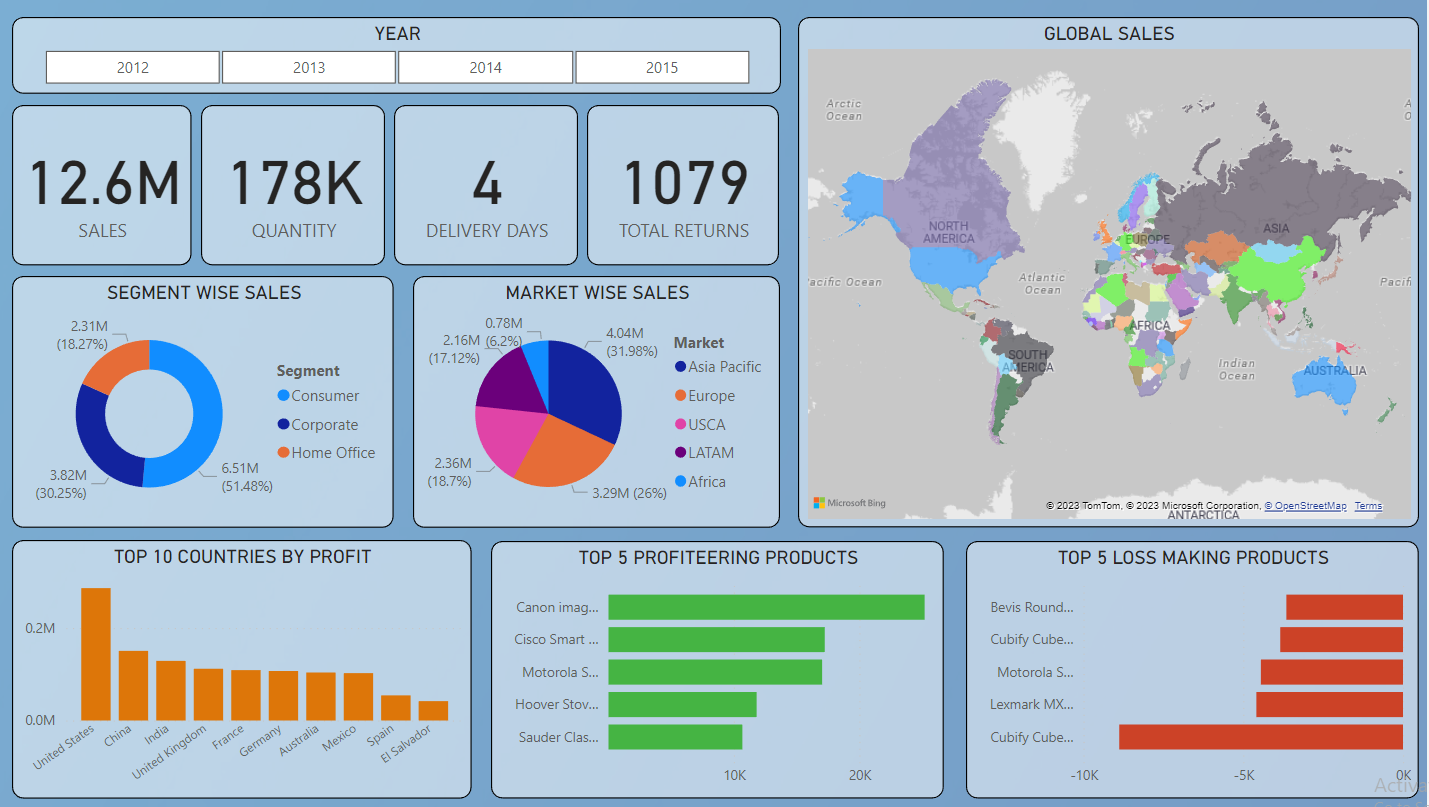

This screenshot's page, from the dashboard's own definition file:
{"tool":"powerbi","page":{"name":"Page 1","canvas":[1280,720],"ordinal":0},"visuals":[{"type":"card","fields":{"Values":["Sum(Orders.Sales)"]},"box":[27.2,97.3,158.5,142],"z":0},{"type":"slicer","title":"YEAR","fields":{"Values":["Orders.Order Date.Variation.Date Hierarchy.Year"]},"box":[27.2,19.5,680.9,68.1],"z":1000},{"type":"card","fields":{"Values":["Sum(Orders.Quantity)"]},"box":[194.5,97.3,163.4,142],"z":2000},{"type":"card","fields":{"Values":["Avg(Orders.Delivery Days)"]},"box":[365.7,97.3,163.4,142],"z":3000},{"type":"filledMap","title":"GLOBAL SALES","fields":{"Category":["Orders.Country"],"Series":["Orders.Sales"]},"box":[723.6,19.5,549.5,452.3],"z":4000},{"type":"card","fields":{"Values":["CountNonNull(Returns.Returns)"]},"box":[536.9,97.3,170.2,142],"z":4001},{"type":"donutChart","title":"SEGMENT WISE SALES","fields":{"Category":["Orders.Segment"],"Y":["Sum(Orders.Sales)"]},"box":[27.2,249,338.5,222.7],"z":4002},{"type":"pieChart","title":"MARKET WISE SALES","fields":{"Category":["Orders.Market"],"Y":["Sum(Orders.Sales)"]},"box":[382.8,248.6,324.7,222.7],"z":4003},{"type":"clusteredColumnChart","title":"TOP 10 COUNTRIES BY PROFIT","fields":{"Category":["Orders.Country"],"Y":["Sum(Orders.Profit)"]},"box":[27.2,482.4,406.6,228.6],"z":4004},{"type":"barChart","title":"TOP 5 PROFITEERING PRODUCTS","fields":{"Category":["Orders.Product Name"],"Y":["Sum(Orders.Profit)"]},"box":[451.3,483.4,400.7,227.6],"z":4006},{"type":"barChart","title":"TOP 5 LOSS MAKING PRODUCTS","fields":{"Category":["Orders.Product Name"],"Y":["Sum(Orders.Profit)"]},"box":[872.5,483.4,400.7,227.6],"z":4007}]}

Visuals, with their boxes in screenshot pixels (x1, y1, x2, y2), scaled from the page's 1280x720 canvas onto the 1429x807 screenshot:
card - Sum(Orders.Sales): 30,109,207,268
"YEAR" slicer: 30,22,791,98
card - Sum(Orders.Quantity): 217,109,400,268
card - Avg(Orders.Delivery Days): 408,109,591,268
"GLOBAL SALES" filledMap: 808,22,1421,529
card - CountNonNull(Returns.Returns): 599,109,789,268
"SEGMENT WISE SALES" donutChart: 30,279,408,529
"MARKET WISE SALES" pieChart: 427,279,790,528
"TOP 10 COUNTRIES BY PROFIT" clusteredColumnChart: 30,541,484,797
"TOP 5 PROFITEERING PRODUCTS" barChart: 504,542,951,797
"TOP 5 LOSS MAKING PRODUCTS" barChart: 974,542,1421,797
